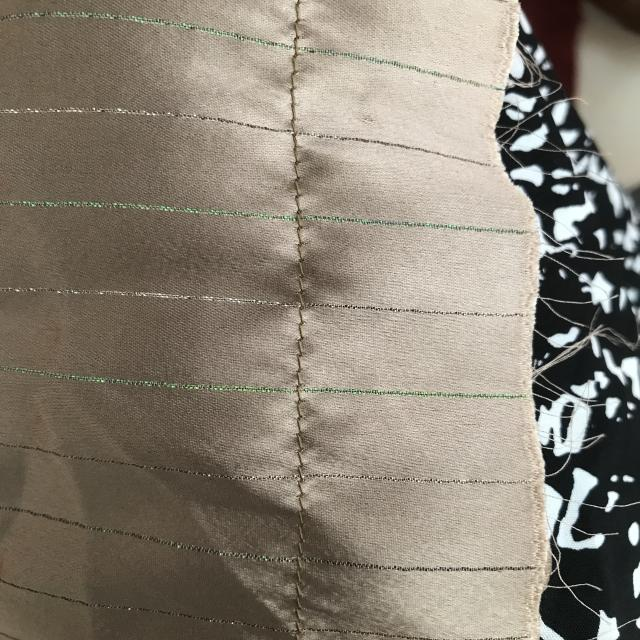good: (288, 487, 332, 553), (274, 141, 322, 198), (283, 316, 316, 385)
